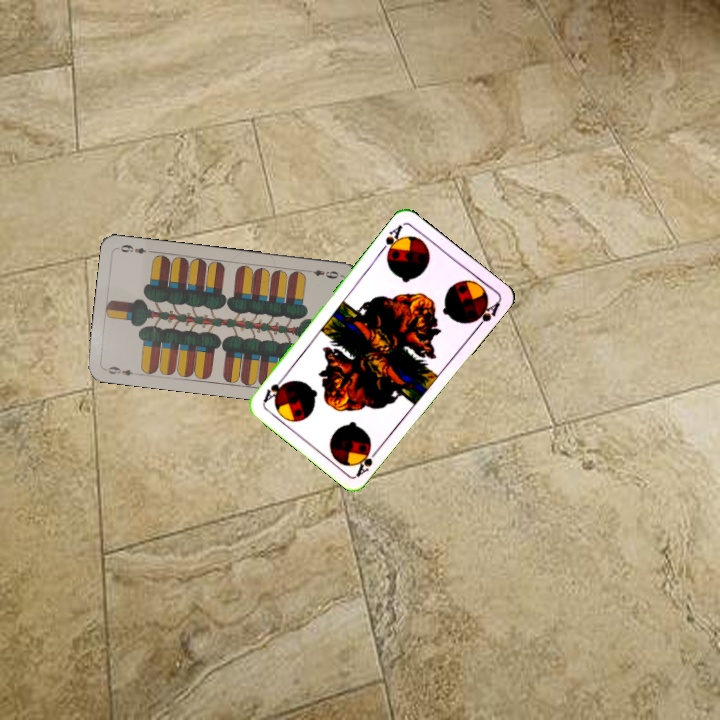E9: (101, 362, 141, 379), (302, 265, 341, 281)
SA: (376, 220, 406, 259), (353, 443, 383, 478)
